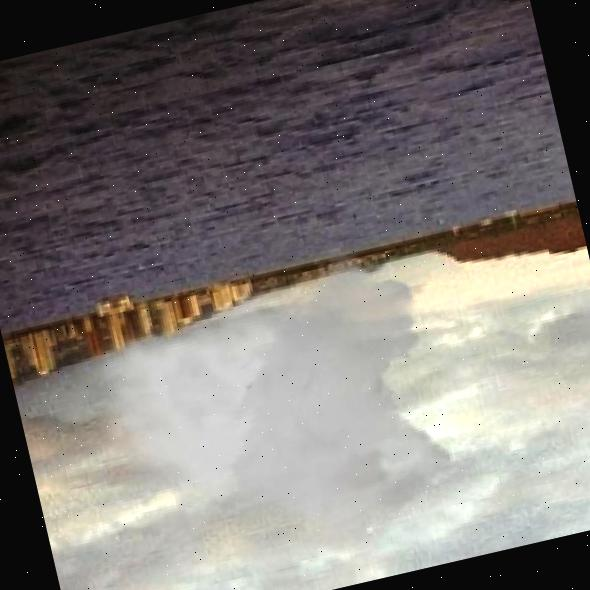smoke: (61, 228, 484, 590)
